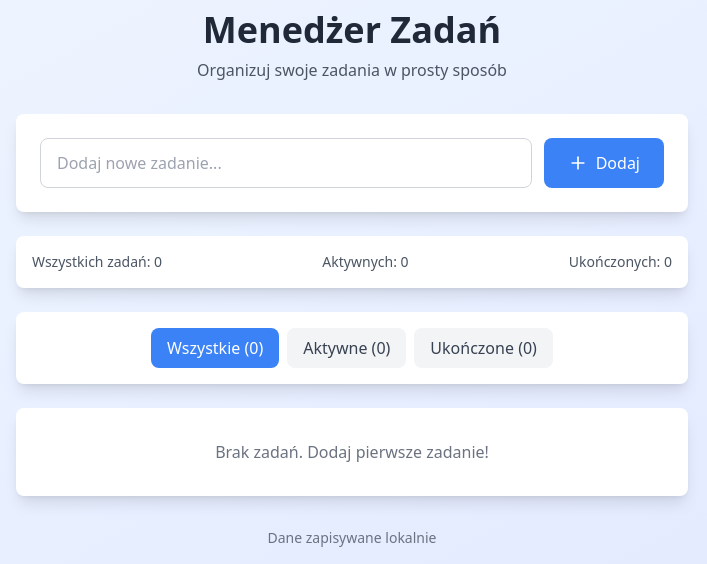
Test: TaskManager › deletes a task
Type "Do usunięcia" into the field with placeholder "Dodaj nowe zadanie...". click: [286, 163]
box: [40,138,532,188]
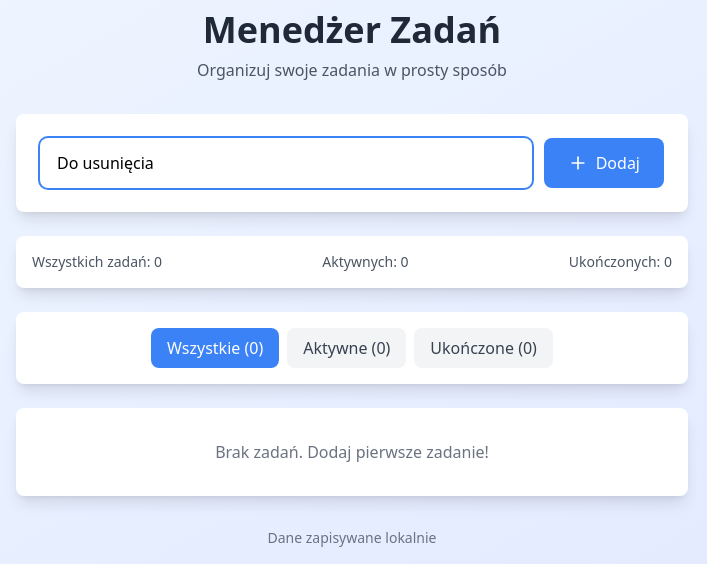
Click the button with aria-label "Add task". click: [604, 163]
box: [544,138,664,188]
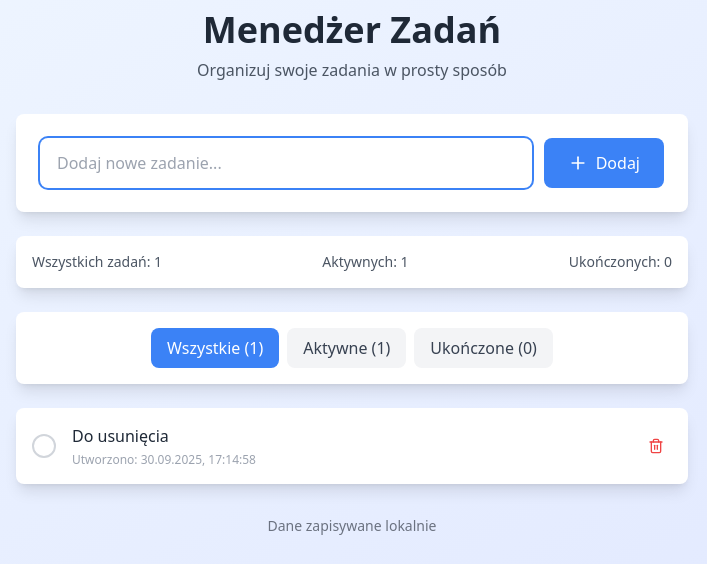
Click the button named "Delete task". click: [656, 446]
box: [640,430,672,462]
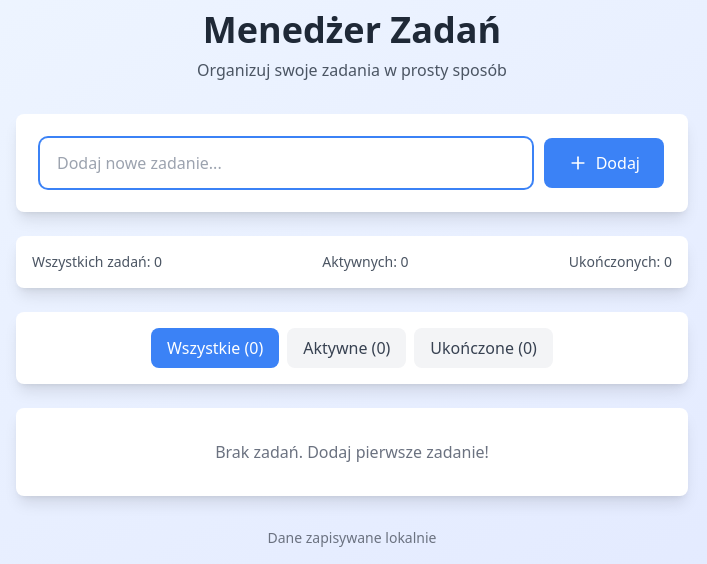
Expected: the text "Do usunięcia" is gone
